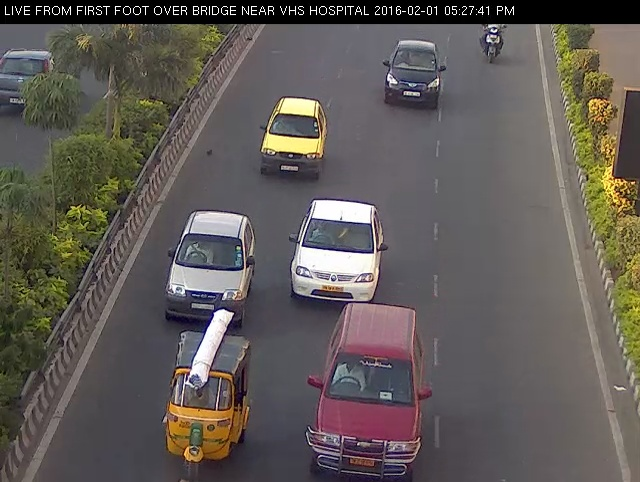Auto: (163, 313, 252, 480)
Car: (304, 303, 436, 482), (162, 202, 260, 330), (287, 188, 388, 312), (256, 90, 329, 182), (379, 35, 450, 113)
Person: (473, 19, 514, 73)
